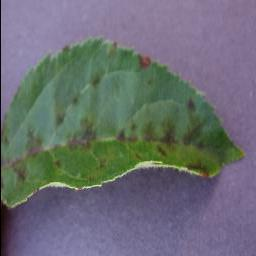apple healthy: (0, 35, 245, 208)
